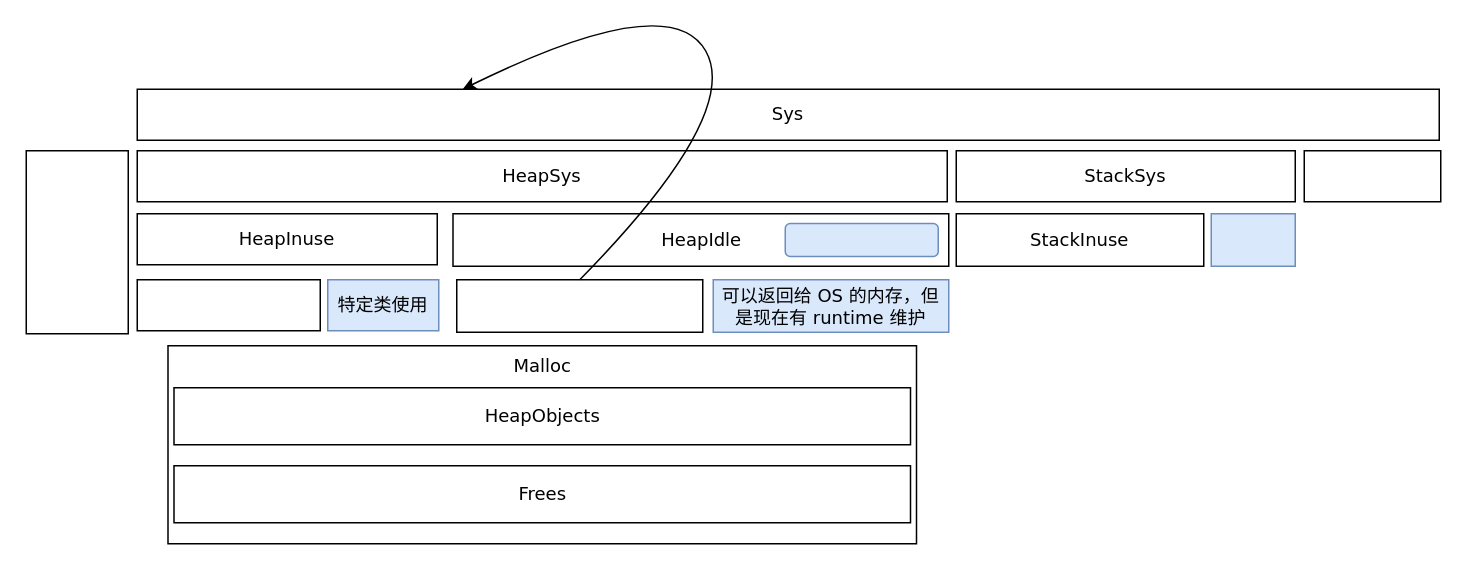
This 1467x572 diagram has some shape labels left out. The shapes that lost their labels are listed below. From the top down, each one's box as (x1, y1, x2, y2) in pixels, then its label:
(1303, 149, 1441, 202): OtherSys
(25, 149, 128, 334): TotalAlloc
(784, 222, 938, 256): 包含 StackIdle
(1210, 212, 1295, 266): 线程栈使用
(136, 278, 320, 331): Alloc/HeapAlloc
(455, 278, 703, 332): HeapReleased
